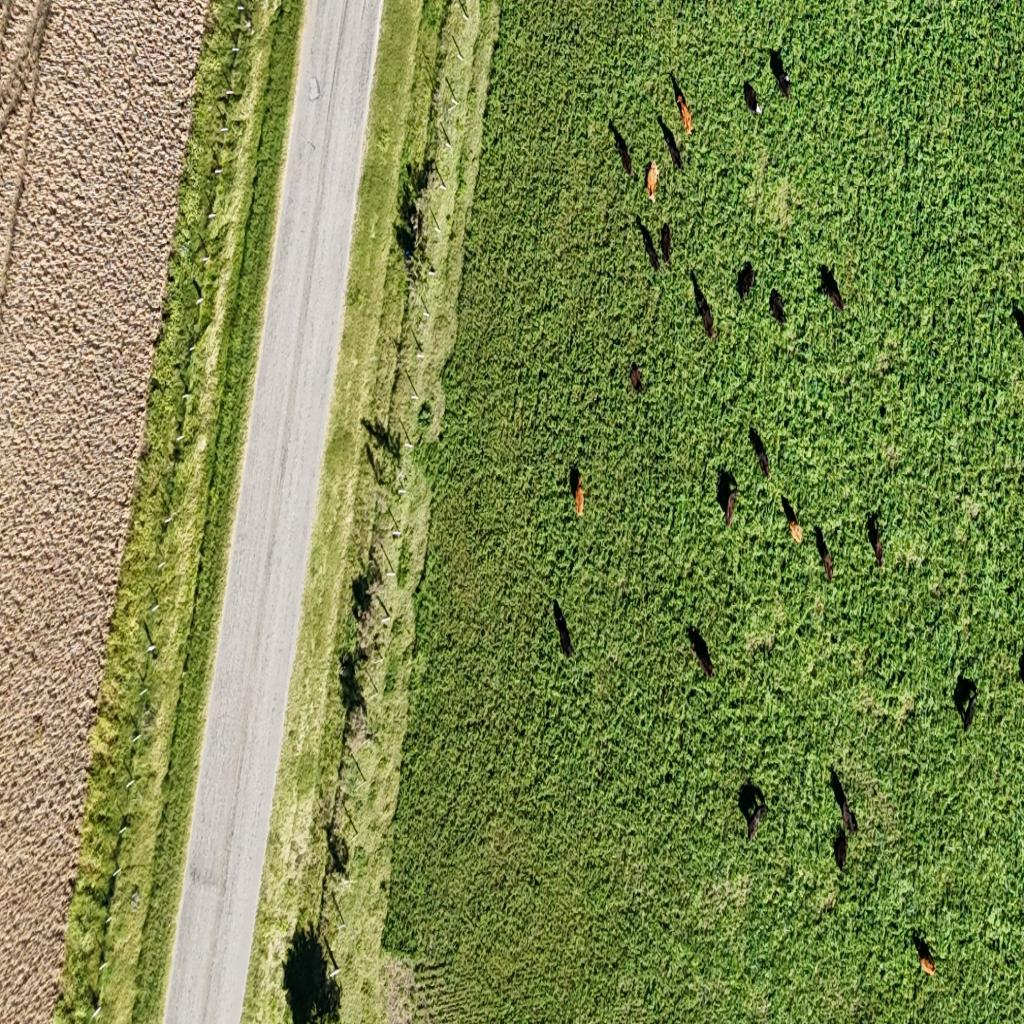cow: (739, 784, 768, 844), (687, 625, 716, 683), (659, 113, 684, 175), (694, 280, 718, 344), (953, 676, 978, 732), (553, 599, 575, 661), (818, 263, 845, 311), (716, 468, 737, 528), (770, 48, 792, 100), (672, 82, 694, 134), (815, 524, 834, 584), (750, 426, 771, 479), (913, 932, 937, 976), (998, 292, 1018, 344), (781, 497, 802, 545), (867, 512, 885, 567), (570, 466, 588, 517), (1009, 635, 1024, 695), (645, 222, 661, 272), (690, 269, 707, 316), (616, 134, 634, 177), (737, 261, 755, 303), (744, 80, 763, 118), (769, 289, 787, 327), (833, 826, 847, 873), (660, 222, 674, 266), (646, 160, 660, 202), (630, 364, 642, 393)
